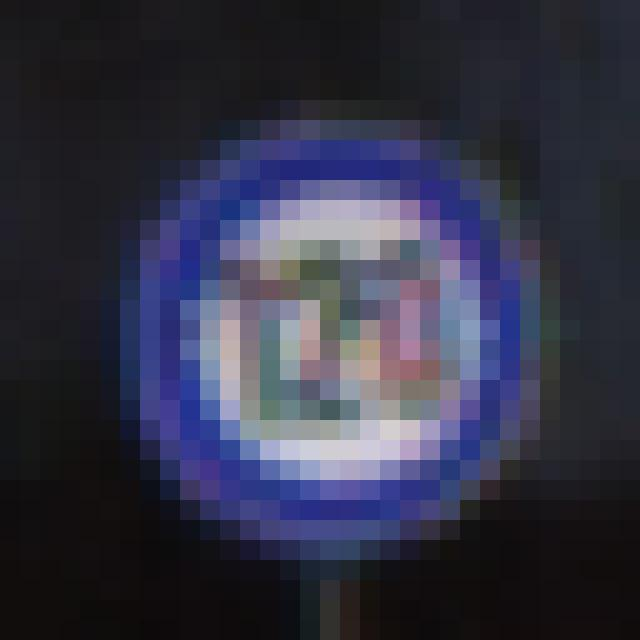SPEED LIMIT 120: (116, 121, 546, 547)
